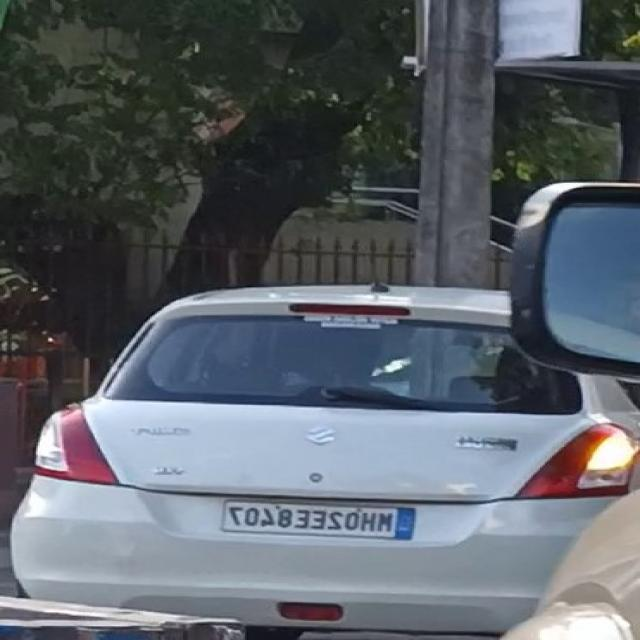license_plate: (210, 490, 419, 549)
